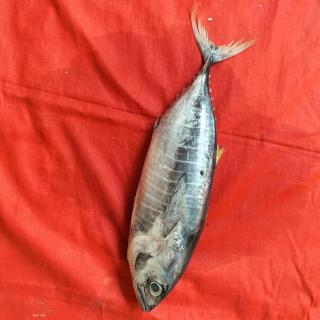Ikan: (100, 8, 260, 320)
